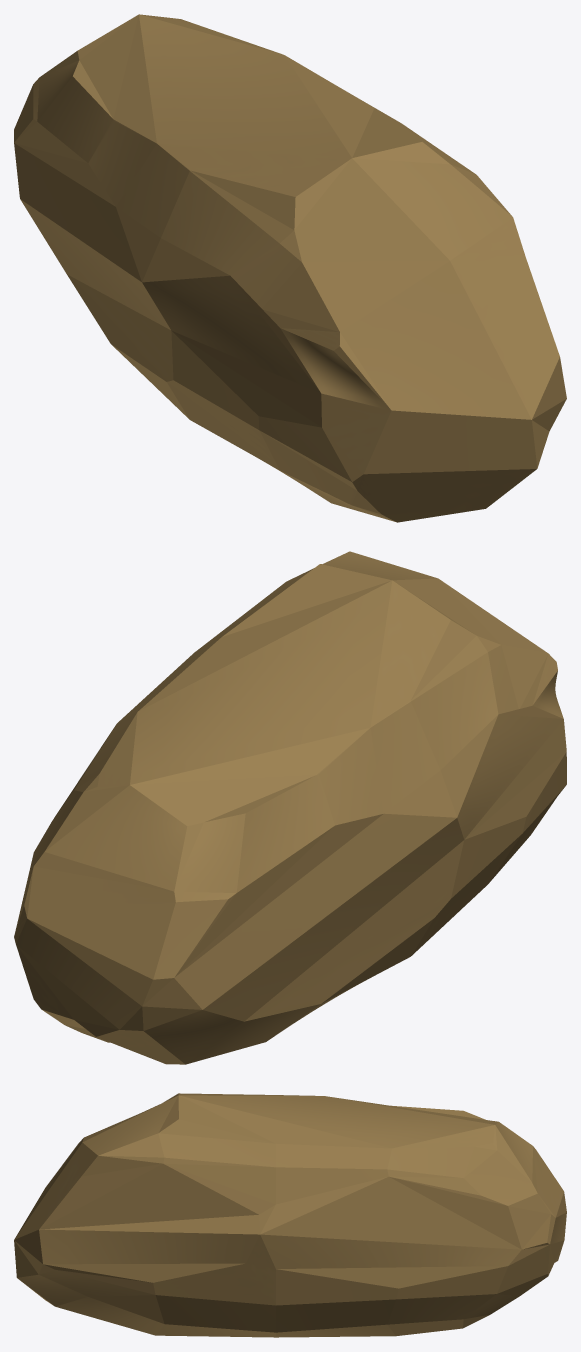
The model's file is rock_01.fbx.
3 views of the same model, one above another, from view 1: azimuth 30°, elevation 25°; view 2: azimuth 150°, elevation 25°; view 3: azimuth 270°, elevation 25° (orthographic). The views are drawn at different scales.
Parts seen in each view (by area): view 1: rock03; view 2: rock03; view 3: rock03.
Boxes of the visible parts, bbox=[...] form: rock03: bbox=[14, 14, 566, 522]; rock03: bbox=[14, 551, 566, 1064]; rock03: bbox=[14, 1093, 566, 1337].
Size of the model in its own units: 128 by 300 by 131.
